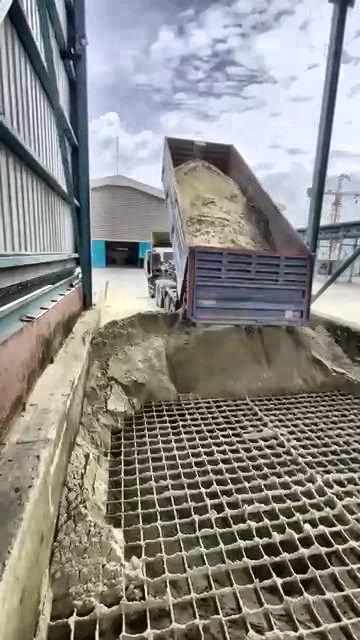sand: (51, 313, 359, 617), (176, 159, 274, 248)
